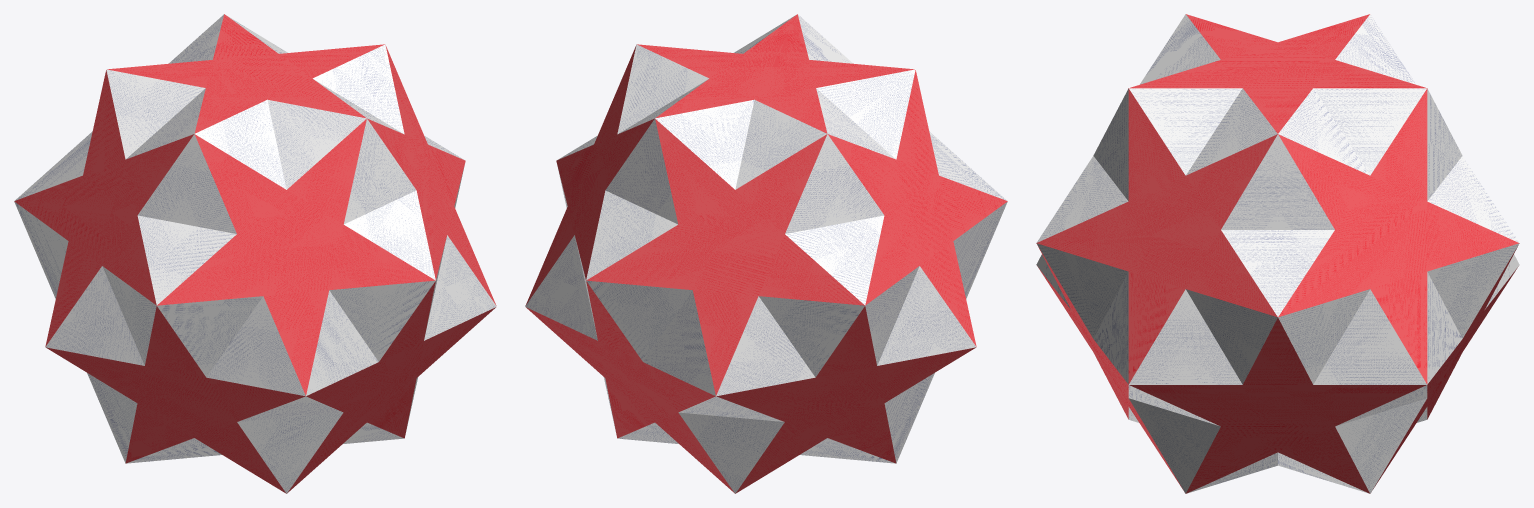
3 views of the same model, side by side, from view 1: azimuth 30°, elevation 25°; view 2: azimuth 150°, elevation 25°; view 3: azimuth 270°, elevation 25° (orthographic). The views are drawn at different scales.
Parts seen in each view (by area): view 1: SketchUp (×16), group_4, group_3, group_10, group_2, group_11, group_5; view 2: SketchUp (×16), group_7, group_3, group_14, group_2, group_13, group_6; view 3: SketchUp (×14), group_5, group_6, group_12, group_2, group_11, group_13.
Boxes of the visible parts, bbox=[...] form: SketchUp (×16): bbox=[14, 14, 496, 493]; group_4: bbox=[157, 119, 435, 395]; group_3: bbox=[14, 70, 193, 346]; group_10: bbox=[46, 306, 305, 493]; group_2: bbox=[107, 14, 384, 133]; group_11: bbox=[287, 281, 495, 493]; group_5: bbox=[367, 45, 496, 305]; SketchUp (×16): bbox=[525, 14, 1007, 493]; group_7: bbox=[586, 119, 864, 395]; group_3: bbox=[828, 70, 1007, 346]; group_14: bbox=[716, 306, 975, 493]; group_2: bbox=[637, 14, 914, 133]; group_13: bbox=[526, 281, 734, 493]; group_6: bbox=[525, 45, 654, 305]; SketchUp (×14): bbox=[1036, 14, 1519, 493]; group_5: bbox=[1036, 88, 1277, 384]; group_6: bbox=[1278, 88, 1519, 384]; group_12: bbox=[1129, 318, 1426, 493]; group_2: bbox=[1129, 14, 1426, 133]; group_11: bbox=[1037, 245, 1182, 488]; group_13: bbox=[1373, 245, 1518, 488].
Size of the model in its own units: 127 by 121 by 103.
